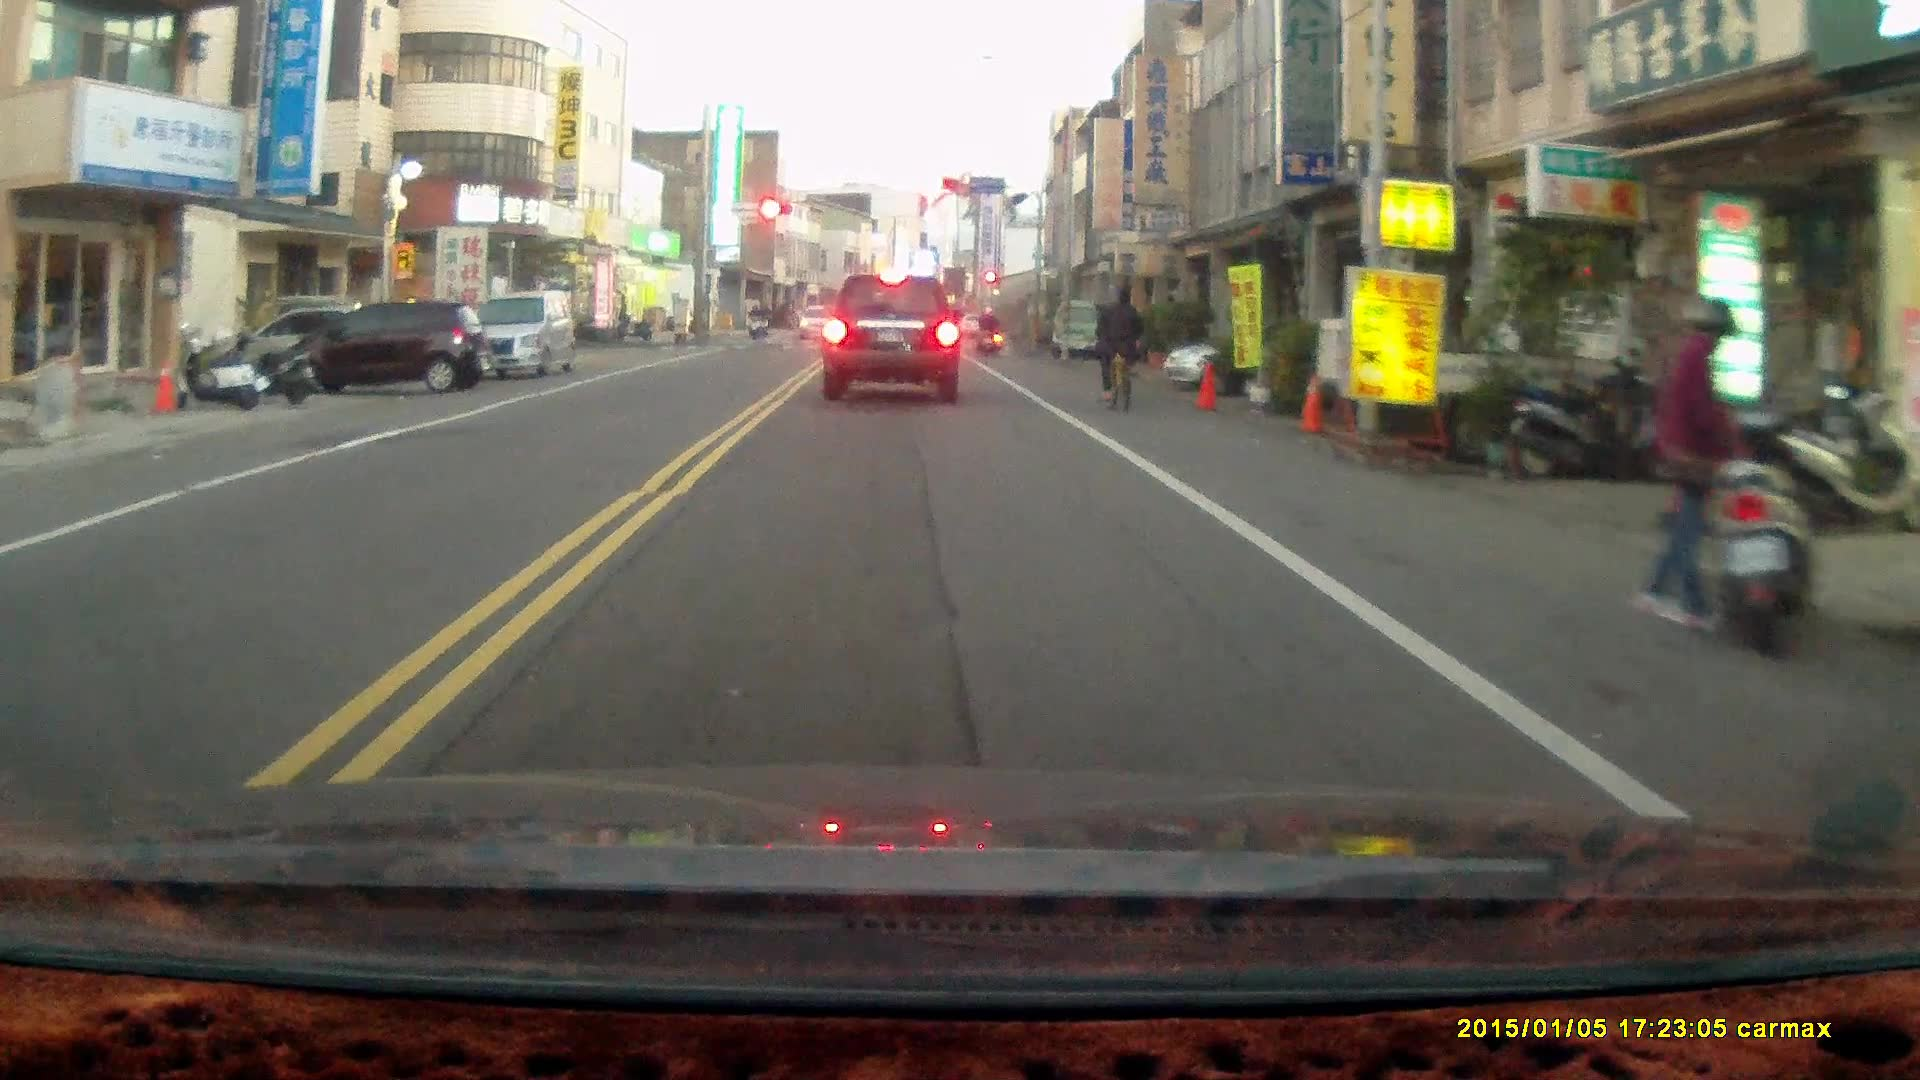pedestrian: (1633, 294, 1749, 636)
rider: (1094, 278, 1146, 410), (973, 298, 998, 353), (744, 301, 766, 342)
vehicle: (279, 300, 489, 402), (819, 270, 963, 405), (1160, 321, 1394, 393), (452, 286, 578, 380)
